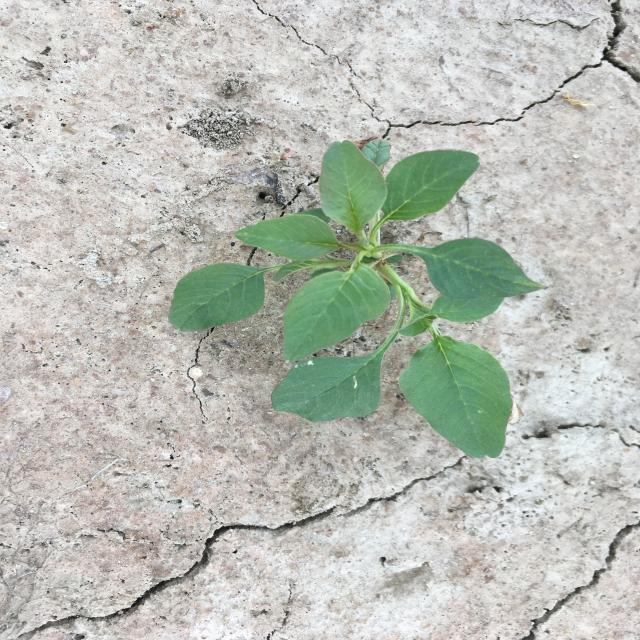PalmerAmaranth: (168, 140, 547, 459)
